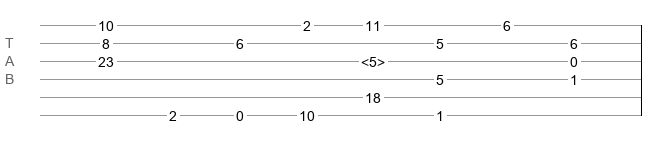0: (236, 108, 244, 118), (570, 54, 578, 64)
1: (436, 108, 444, 118), (570, 72, 578, 82)
10: (98, 18, 114, 28), (299, 108, 315, 118)
11: (365, 18, 381, 28)
18: (365, 90, 381, 100)
2: (169, 108, 177, 118), (303, 18, 311, 28)
23: (98, 54, 114, 64)
5: (436, 72, 444, 82), (436, 36, 444, 46)
6: (236, 36, 244, 46), (503, 18, 511, 28), (570, 36, 578, 46)
8: (102, 36, 110, 46)
harmonic: (361, 54, 385, 64)
